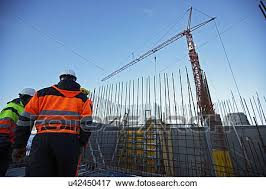helmet: (19, 87, 36, 97), (58, 69, 77, 77)
